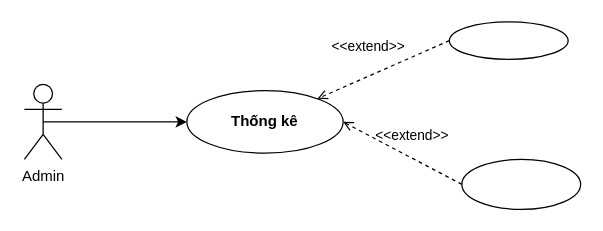
Image size: 603x231. Some labels were removed from this diagram. The centre of each missing label's shape, as x and y in pixels:
Xem: (508,40)
Xuất: (521,183)
